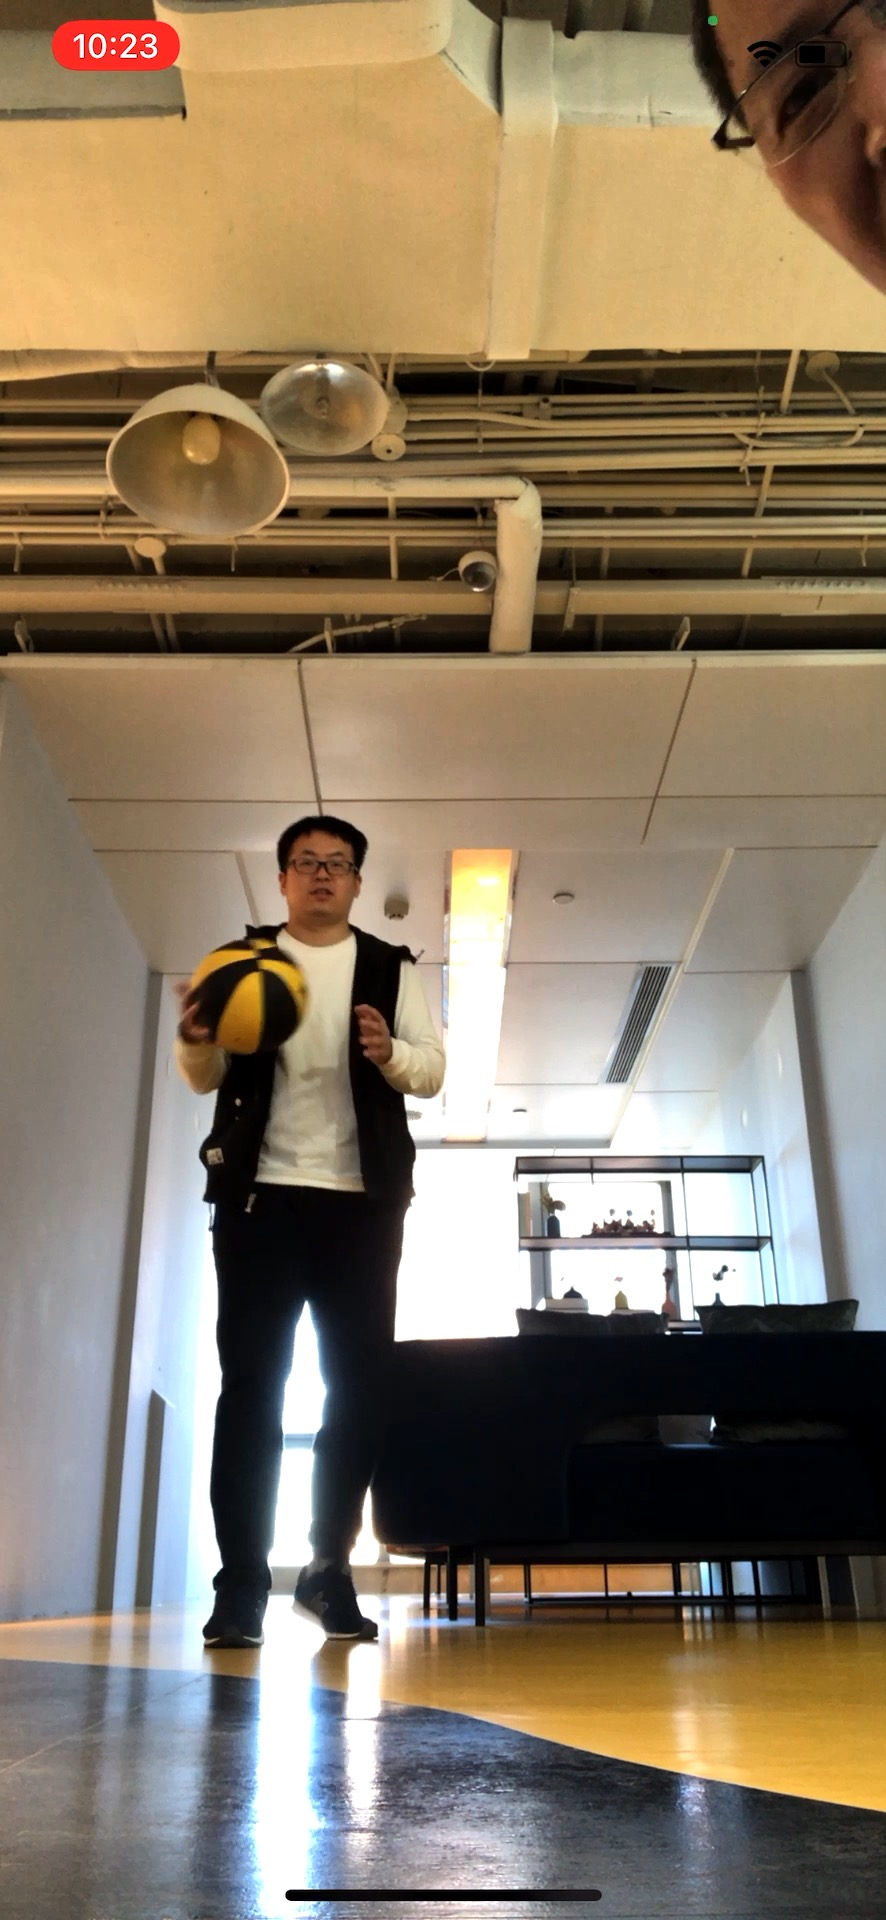ball: (192, 939, 312, 1053)
